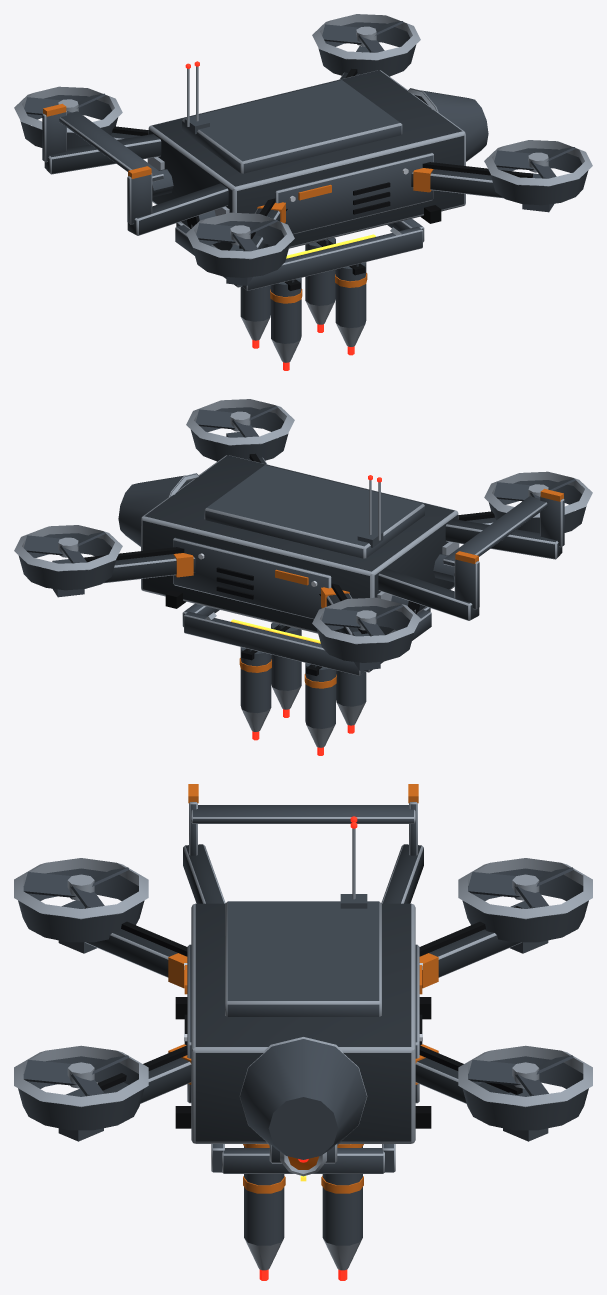
Rendered from enemigo_dron_bombardero.glb.
The picture shows the model from 3 angles, top to bottom: view 1: azimuth 30°, elevation 25°; view 2: azimuth 150°, elevation 25°; view 3: azimuth 270°, elevation 25°; orthographic projection. The views are drawn at different scales.
Visible parts, largest first — view 1: casco, lomo, placa_lateral_1, guia_bahia_1, ducto_pared_4, ducto_pared_3, botalon_1, ducto_pared_1, morro, botalon_2, estabilizador, ducto_labio_1 (+16 smaller); view 2: casco, lomo, placa_lateral_2, guia_bahia_2, ducto_pared_2, ducto_pared_1, botalon_2, ducto_pared_4, morro, botalon_1, estabilizador, ducto_labio_4 (+16 smaller); view 3: casco, lomo, morro, estabilizador, ducto_pared_1, ducto_pared_2, ducto_pared_3, ducto_pared_4, ducto_labio_3, ducto_labio_1, ducto_labio_4, ducto_labio_2 (+19 smaller).
Part boxes in pixels (left/top/right/bottom): casco: left=148, top=70, right=465, bottom=250; lomo: left=182, top=80, right=402, bottom=173; placa_lateral_1: left=275, top=152, right=433, bottom=234; guia_bahia_1: left=242, top=226, right=422, bottom=290; ducto_pared_4: left=490, top=148, right=588, bottom=205; ducto_pared_3: left=192, top=221, right=290, bottom=277; botalon_1: left=127, top=183, right=228, bottom=235; ducto_pared_1: left=318, top=22, right=416, bottom=76; morro: left=408, top=88, right=488, bottom=161; botalon_2: left=44, top=134, right=161, bottom=174; estabilizador: left=59, top=111, right=163, bottom=181; ducto_labio_1: left=312, top=14, right=420, bottom=60; casco: left=141, top=455, right=458, bottom=634; lomo: left=204, top=465, right=424, bottom=558; placa_lateral_2: left=173, top=537, right=331, bottom=619; guia_bahia_2: left=184, top=611, right=364, bottom=675; ducto_pared_2: left=316, top=606, right=414, bottom=662; ducto_pared_1: left=18, top=533, right=116, bottom=590; botalon_2: left=378, top=568, right=479, bottom=620; ducto_pared_4: left=190, top=407, right=288, bottom=461; morro: left=118, top=473, right=198, bottom=546; botalon_1: left=445, top=519, right=562, bottom=559; estabilizador: left=443, top=496, right=547, bottom=566; ducto_labio_4: left=186, top=399, right=294, bottom=445; casco: left=191, top=903, right=415, bottom=1143; lomo: left=225, top=901, right=381, bottom=1016; morro: left=240, top=1039, right=366, bottom=1159; estabilizador: left=191, top=805, right=415, bottom=823; ducto_pared_1: left=462, top=1056, right=588, bottom=1130; ducto_pared_2: left=462, top=868, right=588, bottom=942; ducto_pared_3: left=18, top=868, right=144, bottom=942; ducto_pared_4: left=18, top=1056, right=144, bottom=1130; ducto_labio_3: left=14, top=858, right=148, bottom=919; ducto_labio_1: left=458, top=1045, right=592, bottom=1107; ducto_labio_4: left=14, top=1045, right=148, bottom=1107; ducto_labio_2: left=458, top=858, right=592, bottom=919.
Size of the model in its own units: 1.1 by 0.752 by 1.03.
